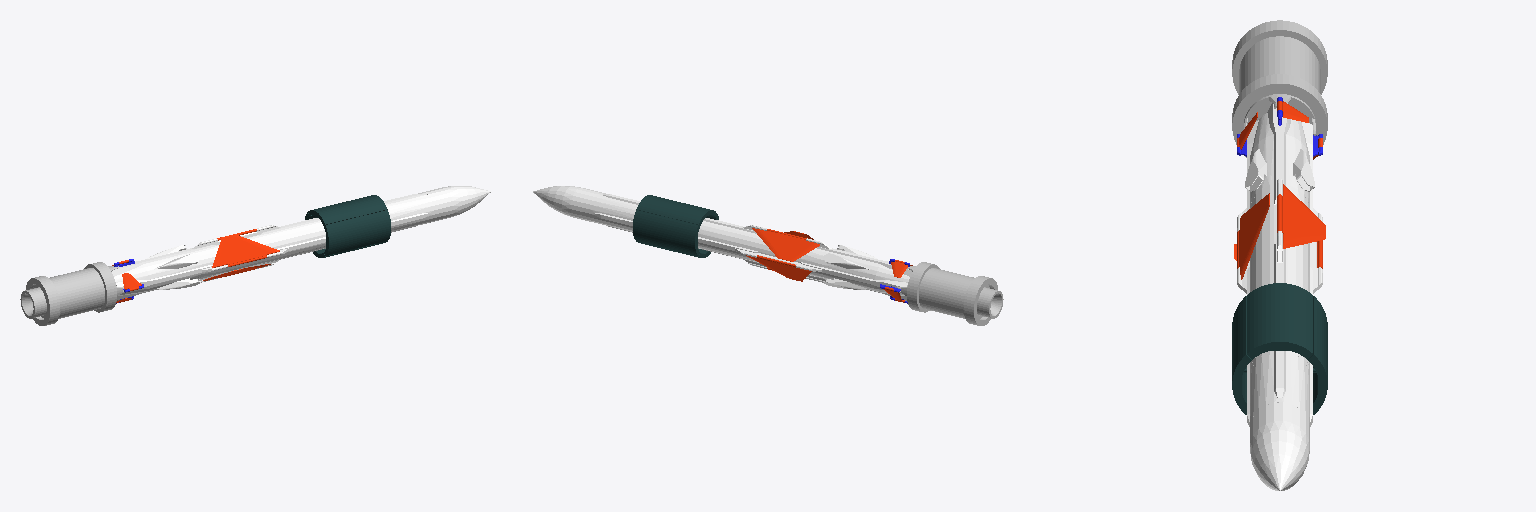
--- Render facts (derived) ---
The picture shows the robot from 3 angles, left to right: view 1: azimuth 30°, elevation 25°; view 2: azimuth 150°, elevation 25°; view 3: azimuth 270°, elevation 25°; orthographic projection.
Model ex_mm40b3 with 18 links and 17 joints (12 revolute, 5 fixed), rooted at base_link, posed every joint at zero.
Visible links, largest first — view 1: base_link, Booster_1, Holder_2, Wing1_4, Holder_1; view 2: base_link, Booster_1, Holder_4, Holder_1, Wing1_1, Wing1_2; view 3: base_link, Booster_1, Holder_1, Wing1_1, Holder_2, Holder_4, Wing1_4.
Link boxes in pixels (bbox=[...]): base_link: bbox=[112, 186, 490, 299]; Booster_1: bbox=[20, 262, 124, 325]; Holder_2: bbox=[324, 210, 390, 255]; Wing1_4: bbox=[212, 235, 279, 267]; Holder_1: bbox=[308, 195, 387, 225]; base_link: bbox=[533, 186, 911, 299]; Booster_1: bbox=[897, 262, 1003, 325]; Holder_4: bbox=[633, 210, 699, 255]; Holder_1: bbox=[636, 195, 715, 225]; Wing1_1: bbox=[752, 228, 819, 261]; Wing1_2: bbox=[746, 255, 811, 281]; base_link: bbox=[1237, 103, 1322, 490]; Booster_1: bbox=[1232, 20, 1327, 157]; Holder_1: bbox=[1247, 283, 1312, 359]; Wing1_1: bbox=[1277, 184, 1325, 248]; Holder_2: bbox=[1232, 296, 1251, 414]; Holder_4: bbox=[1308, 296, 1327, 414]; Wing1_4: bbox=[1237, 193, 1269, 279].
Bounding box of the posed robot: 5.95 × 0.55 × 0.55 m (x, y, z).
18 mesh visuals loaded from 18 distinct referenced files (18 binary STL).

robot.urdf — ex_mm40b3:
<?xml version="1.0" ?>
<!-- =================================================================================== -->
<!-- |    This document was autogenerated by xacro from src/ex_mm40b3_description/urdf/ex_mm40b3.xacro | -->
<!-- |    EDITING THIS FILE BY HAND IS NOT RECOMMENDED                                 | -->
<!-- =================================================================================== -->
<robot name="ex_mm40b3">
  <material name="grey">
    <color rgba="0.82421875 0.82421875 0.82421875 1.0"/>
  </material>
  <material name="darkgrey">
    <color rgba="0.1843137254901961 0.30980392156862746 0.30980392156862746 1.000"/>
  </material>
  <material name="silver">
    <color rgba="0.700 0.700 0.700 1.000"/>
  </material>
  <material name="white">
    <color rgba="1 1 1 1"/>
  </material>
  <material name="orange">
    <color rgba="1 0.3 0.1 1"/>
  </material>
  <material name="blue">
    <color rgba="0.2 0.2 1 1"/>
  </material>
  <material name="red">
    <color rgba="0.8 0 0 1"/>
  </material>
  <material name="green">
    <color rgba="0.0 1 0.0 1"/>
  </material>
  <material name="black">
    <color rgba="0 0 0 1"/>
  </material>
  <transmission name="fins_rev1_tran">
    <type>transmission_interface/SimpleTransmission</type>
    <joint name="fins_rev1">
      <hardwareInterface>hardware_interface/EffortJointInterface</hardwareInterface>
    </joint>
    <actuator name="fins_rev1_actr">
      <hardwareInterface>hardware_interface/EffortJointInterface</hardwareInterface>
      <mechanicalReduction>1</mechanicalReduction>
    </actuator>
  </transmission>
  <transmission name="fins_rev4_tran">
    <type>transmission_interface/SimpleTransmission</type>
    <joint name="fins_rev4">
      <hardwareInterface>hardware_interface/EffortJointInterface</hardwareInterface>
    </joint>
    <actuator name="fins_rev4_actr">
      <hardwareInterface>hardware_interface/EffortJointInterface</hardwareInterface>
      <mechanicalReduction>1</mechanicalReduction>
    </actuator>
  </transmission>
  <transmission name="fins_rev3_tran">
    <type>transmission_interface/SimpleTransmission</type>
    <joint name="fins_rev3">
      <hardwareInterface>hardware_interface/EffortJointInterface</hardwareInterface>
    </joint>
    <actuator name="fins_rev3_actr">
      <hardwareInterface>hardware_interface/EffortJointInterface</hardwareInterface>
      <mechanicalReduction>1</mechanicalReduction>
    </actuator>
  </transmission>
  <transmission name="fins_rev2_tran">
    <type>transmission_interface/SimpleTransmission</type>
    <joint name="fins_rev2">
      <hardwareInterface>hardware_interface/EffortJointInterface</hardwareInterface>
    </joint>
    <actuator name="fins_rev2_actr">
      <hardwareInterface>hardware_interface/EffortJointInterface</hardwareInterface>
      <mechanicalReduction>1</mechanicalReduction>
    </actuator>
  </transmission>
  <transmission name="wings_fold1_tran">
    <type>transmission_interface/SimpleTransmission</type>
    <joint name="wings_fold1">
      <hardwareInterface>hardware_interface/EffortJointInterface</hardwareInterface>
    </joint>
    <actuator name="wings_fold1_actr">
      <hardwareInterface>hardware_interface/EffortJointInterface</hardwareInterface>
      <mechanicalReduction>1</mechanicalReduction>
    </actuator>
  </transmission>
  <transmission name="wings_fold2_tran">
    <type>transmission_interface/SimpleTransmission</type>
    <joint name="wings_fold2">
      <hardwareInterface>hardware_interface/EffortJointInterface</hardwareInterface>
    </joint>
    <actuator name="wings_fold2_actr">
      <hardwareInterface>hardware_interface/EffortJointInterface</hardwareInterface>
      <mechanicalReduction>1</mechanicalReduction>
    </actuator>
  </transmission>
  <transmission name="wings_fold3_tran">
    <type>transmission_interface/SimpleTransmission</type>
    <joint name="wings_fold3">
      <hardwareInterface>hardware_interface/EffortJointInterface</hardwareInterface>
    </joint>
    <actuator name="wings_fold3_actr">
      <hardwareInterface>hardware_interface/EffortJointInterface</hardwareInterface>
      <mechanicalReduction>1</mechanicalReduction>
    </actuator>
  </transmission>
  <transmission name="wings_fold4_tran">
    <type>transmission_interface/SimpleTransmission</type>
    <joint name="wings_fold4">
      <hardwareInterface>hardware_interface/EffortJointInterface</hardwareInterface>
    </joint>
    <actuator name="wings_fold4_actr">
      <hardwareInterface>hardware_interface/EffortJointInterface</hardwareInterface>
      <mechanicalReduction>1</mechanicalReduction>
    </actuator>
  </transmission>
  <transmission name="fin_fold1_tran">
    <type>transmission_interface/SimpleTransmission</type>
    <joint name="fin_fold1">
      <hardwareInterface>hardware_interface/EffortJointInterface</hardwareInterface>
    </joint>
    <actuator name="fin_fold1_actr">
      <hardwareInterface>hardware_interface/EffortJointInterface</hardwareInterface>
      <mechanicalReduction>1</mechanicalReduction>
    </actuator>
  </transmission>
  <transmission name="fin_fold2_tran">
    <type>transmission_interface/SimpleTransmission</type>
    <joint name="fin_fold2">
      <hardwareInterface>hardware_interface/EffortJointInterface</hardwareInterface>
    </joint>
    <actuator name="fin_fold2_actr">
      <hardwareInterface>hardware_interface/EffortJointInterface</hardwareInterface>
      <mechanicalReduction>1</mechanicalReduction>
    </actuator>
  </transmission>
  <transmission name="fin_fold3_tran">
    <type>transmission_interface/SimpleTransmission</type>
    <joint name="fin_fold3">
      <hardwareInterface>hardware_interface/EffortJointInterface</hardwareInterface>
    </joint>
    <actuator name="fin_fold3_actr">
      <hardwareInterface>hardware_interface/EffortJointInterface</hardwareInterface>
      <mechanicalReduction>1</mechanicalReduction>
    </actuator>
  </transmission>
  <transmission name="fin_fold4_tran">
    <type>transmission_interface/SimpleTransmission</type>
    <joint name="fin_fold4">
      <hardwareInterface>hardware_interface/EffortJointInterface</hardwareInterface>
    </joint>
    <actuator name="fin_fold4_actr">
      <hardwareInterface>hardware_interface/EffortJointInterface</hardwareInterface>
      <mechanicalReduction>1</mechanicalReduction>
    </actuator>
  </transmission>
  <gazebo>
    <plugin filename="libgazebo_ros_control.so" name="ex_mm40b3_controller">
      <robotNamespace>ex_mm40b3_controller</robotNamespace>
      <robotSimType>gazebo_ros_control/DefaultRobotHWSim</robotSimType>
    </plugin>
    <plugin filename="libSimpleThruster.so" name="BoosterThrust">
      <link_name>Booster_1</link_name>
      <forward_dir>1 0 0</forward_dir>
      <thrust_origin>0 0 0</thrust_origin>
      <robotNamespace/>
      <topic_name>booster_visual</topic_name>
      <thrust_topic>booster_force</thrust_topic>
    </plugin>
  </gazebo>
  <gazebo reference="base_link">
    <material>Gazebo/White</material>
    <mu1>0.2</mu1>
    <mu2>0.2</mu2>
    <selfCollide>true</selfCollide>
    <gravity>true</gravity>
  </gazebo>
  <gazebo reference="FinHolder_1">
    <material>Gazebo/Blue</material>
    <mu1>0.2</mu1>
    <mu2>0.2</mu2>
    <selfCollide>true</selfCollide>
  </gazebo>
  <gazebo reference="FinHolder_4">
    <material>Gazebo/Blue</material>
    <mu1>0.2</mu1>
    <mu2>0.2</mu2>
    <selfCollide>true</selfCollide>
  </gazebo>
  <gazebo reference="FinHolder_3">
    <material>Gazebo/Blue</material>
    <mu1>0.2</mu1>
    <mu2>0.2</mu2>
    <selfCollide>true</selfCollide>
  </gazebo>
  <gazebo reference="FinHolder_2">
    <material>Gazebo/Blue</material>
    <mu1>0.2</mu1>
    <mu2>0.2</mu2>
    <selfCollide>true</selfCollide>
  </gazebo>
  <gazebo reference="Wing1_1">
    <material>Gazebo/Orange</material>
    <mu1>0.2</mu1>
    <mu2>0.2</mu2>
    <selfCollide>true</selfCollide>
  </gazebo>
  <gazebo reference="Booster_1">
    <material>Gazebo/Gray</material>
    <mu1>0.2</mu1>
    <mu2>0.2</mu2>
    <selfCollide>true</selfCollide>
    <visual>
      <plugin filename="libForceVisual.so" name="SimpleThrustVisual">
        <topic_name>booster_visual</topic_name>
        <color>Gazebo/Red</color>
      </plugin>
    </visual>
  </gazebo>
  <gazebo reference="Wing1_2">
    <material>Gazebo/Orange</material>
    <mu1>0.2</mu1>
    <mu2>0.2</mu2>
    <selfCollide>true</selfCollide>
  </gazebo>
  <gazebo reference="Wing1_3">
    <material>Gazebo/Orange</material>
    <mu1>0.2</mu1>
    <mu2>0.2</mu2>
    <selfCollide>true</selfCollide>
  </gazebo>
  <gazebo reference="Wing1_4">
    <material>Gazebo/Orange</material>
    <mu1>0.2</mu1>
    <mu2>0.2</mu2>
    <selfCollide>true</selfCollide>
  </gazebo>
  <gazebo reference="Holder_1">
    <material>Gazebo/Grey</material>
    <mu1>0.2</mu1>
    <mu2>0.2</mu2>
    <selfCollide>true</selfCollide>
  </gazebo>
  <gazebo reference="Holder_2">
    <material>Gazebo/Grey</material>
    <mu1>0.2</mu1>
    <mu2>0.2</mu2>
    <selfCollide>true</selfCollide>
  </gazebo>
  <gazebo reference="Holder_3">
    <material>Gazebo/Grey</material>
    <mu1>0.2</mu1>
    <mu2>0.2</mu2>
    <selfCollide>true</selfCollide>
  </gazebo>
  <gazebo reference="Holder_4">
    <material>Gazebo/Grey</material>
    <mu1>0.2</mu1>
    <mu2>0.2</mu2>
    <selfCollide>true</selfCollide>
  </gazebo>
  <gazebo reference="Fin_1">
    <material>Gazebo/Orange</material>
    <mu1>0.2</mu1>
    <mu2>0.2</mu2>
    <selfCollide>true</selfCollide>
  </gazebo>
  <gazebo reference="Fin_2">
    <material>Gazebo/Orange</material>
    <mu1>0.2</mu1>
    <mu2>0.2</mu2>
    <selfCollide>true</selfCollide>
  </gazebo>
  <gazebo reference="Fin_3">
    <material>Gazebo/Orange</material>
    <mu1>0.2</mu1>
    <mu2>0.2</mu2>
    <selfCollide>true</selfCollide>
  </gazebo>
  <gazebo reference="Fin_4">
    <material>Gazebo/Orange</material>
    <mu1>0.2</mu1>
    <mu2>0.2</mu2>
    <selfCollide>true</selfCollide>
  </gazebo>
  <gazebo reference="booster_fixing">
    <preserveFixedJoint>true</preserveFixedJoint>
  </gazebo>
  <gazebo reference="HolderJoint1">
    <preserveFixedJoint>true</preserveFixedJoint>
  </gazebo>
  <gazebo reference="HolderJoint2">
    <preserveFixedJoint>true</preserveFixedJoint>
  </gazebo>
  <gazebo reference="HolderJoint3">
    <preserveFixedJoint>true</preserveFixedJoint>
  </gazebo>
  <gazebo reference="HolderJoint4">
    <preserveFixedJoint>true</preserveFixedJoint>
  </gazebo>
  <!-- <xacro:include filename="$(find ex_mm40b3_description)/urdf/plugins.gazebo"/> -->
  <link name="base_link">
    <inertial>
      <origin rpy="0 0 0" xyz="0.5582187363868036 -9.491428765021313e-11 -7.544864658374226e-10"/>
      <mass value="564.9695328358481"/>
      <inertia ixx="13.560396" ixy="-0.0" ixz="0.0" iyy="1088.286862" iyz="0.0" izz="1088.286862"/>
    </inertial>
    <visual>
      <origin rpy="0 0 0" xyz="0 0 0"/>
      <geometry>
        <mesh filename="package://ex_mm40b3_description/meshes/base_link.stl" scale="0.001 0.001 0.001"/>
      </geometry>
      <material name="white"/>
    </visual>
    <collision>
      <origin rpy="0 0 0" xyz="0 0 0"/>
      <geometry>
        <mesh filename="package://ex_mm40b3_description/meshes/base_link.stl" scale="0.001 0.001 0.001"/>
      </geometry>
    </collision>
  </link>
  <link name="FinHolder_1">
    <inertial>
      <origin rpy="0 0 0" xyz="0.01198993428751427 3.495693953659855e-06 0.03520370329433853"/>
      <mass value="0.6136418967408529"/>
      <inertia ixx="0.000219" ixy="-0.0" ixz="3.8e-05" iyy="0.004162" iyz="-0.0" izz="0.003989"/>
    </inertial>
    <visual>
      <origin rpy="0 0 0" xyz="1.561764 0.0 -0.18"/>
      <geometry>
        <mesh filename="package://ex_mm40b3_description/meshes/FinHolder_1.stl" scale="0.001 0.001 0.001"/>
      </geometry>
      <material name="blue"/>
    </visual>
    <collision>
      <origin rpy="0 0 0" xyz="1.561764 0.0 -0.18"/>
      <geometry>
        <mesh filename="package://ex_mm40b3_description/meshes/FinHolder_1.stl" scale="0.001 0.001 0.001"/>
      </geometry>
    </collision>
  </link>
  <link name="FinHolder_4">
    <inertial>
      <origin rpy="0 0 0" xyz="0.01198993428751427 -0.03520370414373866 3.495034387886701e-06"/>
      <mass value="0.6136418967408529"/>
      <inertia ixx="0.000219" ixy="-3.8e-05" ixz="-0.0" iyy="0.003989" iyz="0.0" izz="0.004162"/>
    </inertial>
    <visual>
      <origin rpy="0 0 0" xyz="1.561764 0.18 0.0"/>
      <geometry>
        <mesh filename="package://ex_mm40b3_description/meshes/FinHolder_4.stl" scale="0.001 0.001 0.001"/>
      </geometry>
      <material name="blue"/>
    </visual>
    <collision>
      <origin rpy="0 0 0" xyz="1.561764 0.18 0.0"/>
      <geometry>
        <mesh filename="package://ex_mm40b3_description/meshes/FinHolder_4.stl" scale="0.001 0.001 0.001"/>
      </geometry>
    </collision>
  </link>
  <link name="FinHolder_3">
    <inertial>
      <origin rpy="0 0 0" xyz="0.01198993428751427 -3.4958837879403273e-06 -0.035203704803304314"/>
      <mass value="0.6136418967408529"/>
      <inertia ixx="0.000219" ixy="0.0" ixz="-3.8e-05" iyy="0.004162" iyz="-0.0" izz="0.003989"/>
    </inertial>
    <visual>
      <origin rpy="0 0 0" xyz="1.561764 0.0 0.18"/>
      <geometry>
        <mesh filename="package://ex_mm40b3_description/meshes/FinHolder_3.stl" scale="0.001 0.001 0.001"/>
      </geometry>
      <material name="blue"/>
    </visual>
    <collision>
      <origin rpy="0 0 0" xyz="1.561764 0.0 0.18"/>
      <geometry>
        <mesh filename="package://ex_mm40b3_description/meshes/FinHolder_3.stl" scale="0.001 0.001 0.001"/>
      </geometry>
    </collision>
  </link>
  <link name="FinHolder_2">
    <inertial>
      <origin rpy="0 0 0" xyz="0.01198993428751427 0.035203703953904264 -3.496543353653529e-06"/>
      <mass value="0.6136418967408529"/>
      <inertia ixx="0.000219" ixy="3.8e-05" ixz="0.0" iyy="0.003989" iyz="0.0" izz="0.004162"/>
    </inertial>
    <visual>
      <origin rpy="0 0 0" xyz="1.561764 -0.18 0.0"/>
      <geometry>
        <mesh filename="package://ex_mm40b3_description/meshes/FinHolder_2.stl" scale="0.001 0.001 0.001"/>
      </geometry>
      <material name="blue"/>
    </visual>
    <collision>
      <origin rpy="0 0 0" xyz="1.561764 -0.18 0.0"/>
      <geometry>
        <mesh filename="package://ex_mm40b3_description/meshes/FinHolder_2.stl" scale="0.001 0.001 0.001"/>
      </geometry>
    </collision>
  </link>
  <link name="Wing1_1">
    <inertial>
      <origin rpy="0 0 0" xyz="-0.04066620765985293 0.0807449272160705 -0.05243595158558506"/>
      <mass value="7.941525705671481"/>
      <inertia ixx="0.045859" ixy="0.016465" ixz="-0.010693" iyy="0.280396" iyz="0.020713" izz="0.29884"/>
    </inertial>
    <visual>
      <origin rpy="0 0 0" xyz="0.108536 0.0 -0.231018"/>
      <geometry>
        <mesh filename="package://ex_mm40b3_description/meshes/Wing1_1.stl" scale="0.001 0.001 0.001"/>
      </geometry>
      <material name="orange"/>
    </visual>
    <collision>
      <origin rpy="0 0 0" xyz="0.108536 0.0 -0.231018"/>
      <geometry>
        <mesh filename="package://ex_mm40b3_description/meshes/Wing1_1.stl" scale="0.001 0.001 0.001"/>
      </geometry>
    </collision>
  </link>
  <link name="Booster_1">
    <inertial>
      <origin rpy="0 0 0" xyz="-0.5309883305776795 1.2931271704902409e-09 7.783320420974786e-11"/>
      <mass value="138.76341026969325"/>
      <inertia ixx="6.064544" ixy="-0.0" ixz="-0.0" iyy="17.450475" iyz="0.0" izz="17.450475"/>
    </inertial>
    <visual>
      <origin rpy="0 0 0" xyz="1.741776 0.0 0.0"/>
      <geometry>
        <mesh filename="package://ex_mm40b3_description/meshes/Booster_1.stl" scale="0.001 0.001 0.001"/>
      </geometry>
      <material name="grey"/>
    </visual>
    <collision>
      <origin rpy="0 0 0" xyz="1.741776 0.0 0.0"/>
      <geometry>
        <mesh filename="package://ex_mm40b3_description/meshes/Booster_1.stl" scale="0.001 0.001 0.001"/>
      </geometry>
    </collision>
  </link>
  <link name="Wing1_2">
    <inertial>
      <origin rpy="0 0 0" xyz="-0.040666207659853376 -0.05189131189100127 -0.079906257497525"/>
      <mass value="7.941525705671481"/>
      <inertia ixx="0.045859" ixy="-0.010693" ixz="-0.016465" iyy="0.29884" iyz="-0.020713" izz="0.280396"/>
    </inertial>
    <visual>
      <origin rpy="0 0 0" xyz="0.108536 -0.231018 0.0"/>
      <geometry>
        <mesh filename="package://ex_mm40b3_description/meshes/Wing1_2.stl" scale="0.001 0.001 0.001"/>
      </geometry>
      <material name="orange"/>
    </visual>
    <collision>
      <origin rpy="0 0 0" xyz="0.108536 -0.231018 0.0"/>
      <geometry>
        <mesh filename="package://ex_mm40b3_description/meshes/Wing1_2.stl" scale="0.001 0.001 0.001"/>
      </geometry>
    </collision>
  </link>
  <link name="Wing1_3">
    <inertial>
      <origin rpy="0 0 0" xyz="-0.04066620765985307 -0.07990625683795603 0.051891311041601024"/>
      <mass value="7.941525705671481"/>
      <inertia ixx="0.045859" ixy="-0.016465" ixz="0.010693" iyy="0.280396" iyz="0.020713" izz="0.29884"/>
    </inertial>
    <visual>
      <origin rpy="0 0 0" xyz="0.108536 0.0 0.231018"/>
      <geometry>
        <mesh filename="package://ex_mm40b3_description/meshes/Wing1_3.stl" scale="0.001 0.001 0.001"/>
      </geometry>
      <material name="orange"/>
    </visual>
    <collision>
      <origin rpy="0 0 0" xyz="0.108536 0.0 0.231018"/>
      <geometry>
        <mesh filename="package://ex_mm40b3_description/meshes/Wing1_3.stl" scale="0.001 0.001 0.001"/>
      </geometry>
    </collision>
  </link>
  <link name="Wing1_4">
    <inertial>
      <origin rpy="0 0 0" xyz="-0.04066620765985285 0.051891311701170034 0.07990625598855573"/>
      <mass value="7.941525705671481"/>
      <inertia ixx="0.045859" ixy="0.010693" ixz="0.016465" iyy="0.29884" iyz="-0.020713" izz="0.280396"/>
    </inertial>
    <visual>
      <origin rpy="0 0 0" xyz="0.108536 0.231018 0.0"/>
      <geometry>
        <mesh filename="package://ex_mm40b3_description/meshes/Wing1_4.stl" scale="0.001 0.001 0.001"/>
      </geometry>
      <material name="orange"/>
    </visual>
    <collision>
      <origin rpy="0 0 0" xyz="0.108536 0.231018 0.0"/>
      <geometry>
        <mesh filename="package://ex_mm40b3_description/meshes/Wing1_4.stl" scale="0.001 0.001 0.001"/>
      </geometry>
    </collision>
  </link>
  <link name="Holder_1">
    <inertial>
      <origin rpy="0 0 0" xyz="-0.1999999917328792 -9.490927239922491e-11 0.03608121241836992"/>
      <mass value="12.085489344125179"/>
      <inertia ixx="0.161772" ixy="-0.0" ixz="-0.0" iyy="0.69521" iyz="-0.0" izz="0.836017"/>
    </inertial>
    <visual>
      <origin rpy="0 0 0" xyz="-1.514695 0.0 -0.187374"/>
      <geometry>
        <mesh filename="package://ex_mm40b3_description/meshes/Holder_1.stl" scale="0.001 0.001 0.001"/>
      </geometry>
      <material name="darkgrey"/>
    </visual>
    <collision>
      <origin rpy="0 0 0" xyz="-1.514695 0.0 -0.187374"/>
      <geometry>
        <mesh filename="package://ex_mm40b3_description/meshes/Holder_1.stl" scale="0.001 0.001 0.001"/>
      </geometry>
    </collision>
  </link>
  <link name="Holder_2">
    <inertial>
      <origin rpy="0 0 0" xyz="-0.1999999917328792 -0.03608121241836992 -9.490925871653939e-11"/>
      <mass value="12.085489344125179"/>
      <inertia ixx="0.161772" ixy="0.0" ixz="-0.0" iyy="0.836017" iyz="0.0" izz="0.69521"/>
    </inertial>
    <visual>
      <origin rpy="0 0 0" xyz="-1.514695 0.187374 0.0"/>
      <geometry>
        <mesh filename="package://ex_mm40b3_description/meshes/Holder_2.stl" scale="0.001 0.001 0.001"/>
      </geometry>
      <material name="darkgrey"/>
    </visual>
    <collision>
      <origin rpy="0 0 0" xyz="-1.514695 0.187374 0.0"/>
      <geometry>
        <mesh filename="package://ex_mm40b3_description/meshes/Holder_2.stl" scale="0.001 0.001 0.001"/>
      </geometry>
    </collision>
  </link>
  <link name="Holder_3">
    <inertial>
      <origin rpy="0 0 0" xyz="-0.1999999917328792 9.490924503385386e-11 -0.03608121241836992"/>
      <mass value="12.085489344125179"/>
      <inertia ixx="0.161772" ixy="0.0" ixz="0.0" iyy="0.69521" iyz="-0.0" izz="0.836017"/>
    </inertial>
    <visual>
      <origin rpy="0 0 0" xyz="-1.514695 0.0 0.187374"/>
      <geometry>
        <mesh filename="package://ex_mm40b3_description/meshes/Holder_3.stl" scale="0.001 0.001 0.001"/>
      </geometry>
      <material name="darkgrey"/>
    </visual>
    <collision>
      <origin rpy="0 0 0" xyz="-1.514695 0.0 0.187374"/>
      <geometry>
        <mesh filename="package://ex_mm40b3_description/meshes/Holder_3.stl" scale="0.001 0.001 0.001"/>
      </geometry>
    </collision>
  </link>
  <link name="Holder_4">
    <inertial>
      <origin rpy="0 0 0" xyz="-0.1999999917328792 0.03608121241836992 9.490923135116832e-11"/>
      <mass value="12.085489344125179"/>
      <inertia ixx="0.161772" ixy="-0.0" ixz="0.0" iyy="0.836017" iyz="-0.0" izz="0.69521"/>
    </inertial>
    <visual>
      <origin rpy="0 0 0" xyz="-1.514695 -0.187374 0.0"/>
      <geometry>
        <mesh filename="package://ex_mm40b3_description/meshes/Holder_4.stl" scale="0.001 0.001 0.001"/>
      </geometry>
      <material name="darkgrey"/>
    </visual>
    <collision>
      <origin rpy="0 0 0" xyz="-1.514695 -0.187374 0.0"/>
      <geometry>
        <mesh filename="package://ex_mm40b3_description/meshes/Holder_4.stl" scale="0.001 0.001 0.001"/>
      </geometry>
    </collision>
  </link>
  <link name="Fin_1">
    <inertial>
      <origin rpy="0 0 0" xyz="-0.015670038509134843 0.05105851518613127 -0.033157788278729644"/>
      <mass value="1.1914641784690367"/>
      <inertia ixx="0.003045" ixy="0.000707" ixz="-0.000459" iyy="0.003419" iyz="0.00136" izz="0.004631"/>
    </inertial>
    <visual>
      <origin rpy="0 0 0" xyz="1.561764 0.0 -0.235"/>
      <geometry>
        <mesh filename="package://ex_mm40b3_description/meshes/Fin_1.stl" scale="0.001 0.001 0.001"/>
      </geometry>
      <material name="orange"/>
    </visual>
    <collision>
      <origin rpy="0 0 0" xyz="1.561764 0.0 -0.235"/>
      <geometry>
        <mesh filename="package://ex_mm40b3_description/meshes/Fin_1.stl" scale="0.001 0.001 0.001"/>
      </geometry>
    </collision>
  </link>
  <link name="Fin_2">
    <inertial>
      <origin rpy="0 0 0" xyz="-0.015670038509135287 -0.03315778761916369 -0.05105880996392321"/>
      <mass value="1.1914641784690367"/>
      <inertia ixx="0.003045" ixy="-0.000459" ixz="-0.000707" iyy="0.004631" iyz="-0.00136" izz="0.003419"/>
    </inertial>
    <visual>
      <origin rpy="0 0 0" xyz="1.561764 -0.235 1.7e-05"/>
      <geometry>
        <mesh filename="package://ex_mm40b3_description/meshes/Fin_2.stl" scale="0.001 0.001 0.001"/>
      </geometry>
      <material name="orange"/>
    </visual>
    <collision>
      <origin rpy="0 0 0" xyz="1.561764 -0.235 1.7e-05"/>
      <geometry>
        <mesh filename="package://ex_mm40b3_description/meshes/Fin_2.stl" scale="0.001 0.001 0.001"/>
      </geometry>
    </collision>
  </link>
  <link name="Fin_3">
    <inertial>
      <origin rpy="0 0 0" xyz="-0.01567003850913551 -0.051058515375965514 0.033157786769763664"/>
      <mass value="1.1914641784690367"/>
      <inertia ixx="0.003045" ixy="-0.000707" ixz="0.000459" iyy="0.003419" iyz="0.00136" izz="0.004631"/>
    </inertial>
    <visual>
      <origin rpy="0 0 0" xyz="1.561764 0.0 0.235"/>
      <geometry>
        <mesh filename="package://ex_mm40b3_description/meshes/Fin_3.stl" scale="0.001 0.001 0.001"/>
      </geometry>
      <material name="orange"/>
    </visual>
    <collision>
      <origin rpy="0 0 0" xyz="1.561764 0.0 0.235"/>
      <geometry>
        <mesh filename="package://ex_mm40b3_description/meshes/Fin_3.stl" scale="0.001 0.001 0.001"/>
      </geometry>
    </collision>
  </link>
  <link name="Fin_4">
    <inertial>
      <origin rpy="0 0 0" xyz="-0.015670038509134843 0.03315778742932951 0.051058514526565395"/>
      <mass value="1.1914641784690367"/>
      <inertia ixx="0.003045" ixy="0.000459" ixz="0.000707" iyy="0.004631" iyz="-0.00136" izz="0.003419"/>
    </inertial>
    <visual>
      <origin rpy="0 0 0" xyz="1.561764 0.235 0.0"/>
      <geometry>
        <mesh filename="package://ex_mm40b3_description/meshes/Fin_4.stl" scale="0.001 0.001 0.001"/>
      </geometry>
      <material name="orange"/>
    </visual>
    <collision>
      <origin rpy="0 0 0" xyz="1.561764 0.235 0.0"/>
      <geometry>
        <mesh filename="package://ex_mm40b3_description/meshes/Fin_4.stl" scale="0.001 0.001 0.001"/>
      </geometry>
    </collision>
  </link>
  <joint name="fins_rev1" type="revolute">
    <origin rpy="0 0 0" xyz="-1.561764 0.0 0.18"/>
    <parent link="base_link"/>
    <child link="FinHolder_1"/>
    <axis xyz="-0.0 -0.0 1.0"/>
    <limit effort="100" lower="-0.349066" upper="0.349066" velocity="100"/>
  </joint>
  <joint name="fins_rev4" type="revolute">
    <origin rpy="0 0 0" xyz="-1.561764 -0.18 0.0"/>
    <parent link="base_link"/>
    <child link="FinHolder_4"/>
    <axis xyz="-0.0 -1.0 -0.0"/>
    <limit effort="100" lower="-0.349066" upper="0.349066" velocity="100"/>
  </joint>
  <joint name="fins_rev3" type="revolute">
    <origin rpy="0 0 0" xyz="-1.561764 0.0 -0.18"/>
    <parent link="base_link"/>
    <child link="FinHolder_3"/>
    <axis xyz="-0.0 0.0 -1.0"/>
    <limit effort="100" lower="-0.349066" upper="0.349066" velocity="100"/>
  </joint>
  <joint name="fins_rev2" type="revolute">
    <origin rpy="0 0 0" xyz="-1.561764 0.18 0.0"/>
    <parent link="base_link"/>
    <child link="FinHolder_2"/>
    <axis xyz="-0.0 1.0 0.0"/>
    <limit effort="100" lower="-0.349066" upper="0.349066" velocity="100"/>
  </joint>
  <joint name="wings_fold1" type="revolute">
    <origin rpy="0 0 0" xyz="-0.108536 0.0 0.231018"/>
    <parent link="base_link"/>
    <child link="Wing1_1"/>
    <axis xyz="1.0 -0.0 -0.0"/>
    <limit effort="100" lower="0.0" upper="2.146755" velocity="100"/>
  </joint>
  <joint name="booster_fixing" type="fixed">
    <origin rpy="0 0 0" xyz="-1.741776 0.0 0.0"/>
    <parent link="base_link"/>
    <child link="Booster_1"/>
  </joint>
  <joint name="wings_fold2" type="revolute">
    <origin rpy="0 0 0" xyz="-0.108536 0.231018 0.0"/>
    <parent link="base_link"/>
    <child link="Wing1_2"/>
    <axis xyz="1.0 0.0 -0.0"/>
    <limit effort="100" lower="0.0" upper="2.146755" velocity="100"/>
  </joint>
  <joint name="wings_fold3" type="revolute">
    <origin rpy="0 0 0" xyz="-0.108536 0.0 -0.231018"/>
    <parent link="base_link"/>
    <child link="Wing1_3"/>
    <axis xyz="1.0 0.0 -0.0"/>
    <limit effort="100" lower="0.0" upper="2.146755" velocity="100"/>
  </joint>
  <joint name="wings_fold4" type="revolute">
    <origin rpy="0 0 0" xyz="-0.108536 -0.231018 0.0"/>
    <parent link="base_link"/>
    <child link="Wing1_4"/>
    <axis xyz="1.0 -0.0 -0.0"/>
    <limit effort="100" lower="0.0" upper="2.146755" velocity="100"/>
  </joint>
  <joint name="HolderJoint1" type="fixed">
    <origin rpy="0 0 0" xyz="1.514695 0.0 0.187374"/>
    <parent link="base_link"/>
    <child link="Holder_1"/>
  </joint>
  <joint name="HolderJoint2" type="fixed">
    <origin rpy="0 0 0" xyz="1.514695 -0.187374 0.0"/>
    <parent link="base_link"/>
    <child link="Holder_2"/>
  </joint>
  <joint name="HolderJoint3" type="fixed">
    <origin rpy="0 0 0" xyz="1.514695 0.0 -0.187374"/>
    <parent link="base_link"/>
    <child link="Holder_3"/>
  </joint>
  <joint name="HolderJoint4" type="fixed">
    <origin rpy="0 0 0" xyz="1.514695 0.187374 0.0"/>
    <parent link="base_link"/>
    <child link="Holder_4"/>
  </joint>
  <joint name="fin_fold1" type="revolute">
    <origin rpy="0 0 0" xyz="0.0 0.0 0.055"/>
    <parent link="FinHolder_1"/>
    <child link="Fin_1"/>
    <axis xyz="1.0 -0.0 0.0"/>
    <limit effort="100" lower="0.0" upper="2.146755" velocity="100"/>
  </joint>
  <joint name="fin_fold2" type="revolute">
    <origin rpy="0 0 0" xyz="0.0 0.055 -1.7e-05"/>
    <parent link="FinHolder_2"/>
    <child link="Fin_2"/>
    <axis xyz="1.0 -0.0 -0.0"/>
    <limit effort="100" lower="0.0" upper="2.146755" velocity="100"/>
  </joint>
  <joint name="fin_fold3" type="revolute">
    <origin rpy="0 0 0" xyz="0.0 0.0 -0.055"/>
    <parent link="FinHolder_3"/>
    <child link="Fin_3"/>
    <axis xyz="1.0 -0.0 0.0"/>
    <limit effort="100" lower="0.0" upper="2.146755" velocity="100"/>
  </joint>
  <joint name="fin_fold4" type="revolute">
    <origin rpy="0 0 0" xyz="0.0 -0.055 0.0"/>
    <parent link="FinHolder_4"/>
    <child link="Fin_4"/>
    <axis xyz="1.0 -0.0 -0.0"/>
    <limit effort="100" lower="0.0" upper="2.146755" velocity="100"/>
  </joint>
</robot>
